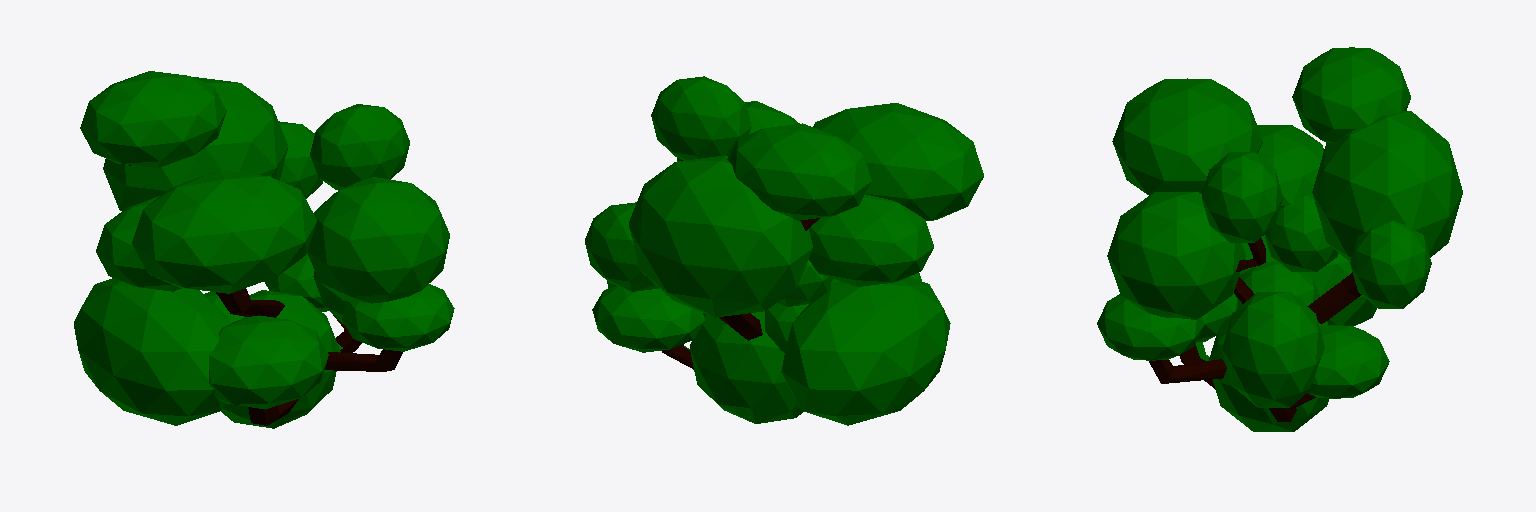
Rendered from round_2.obj.
The picture shows the model from 3 angles: view 1: azimuth 30°, elevation 25°; view 2: azimuth 150°, elevation 25°; view 3: azimuth 270°, elevation 25°; orthographic projection.
Visible parts, largest first — view 1: Icosphere.015; view 2: Icosphere.015; view 3: Icosphere.015.
Boxes of the visible parts, x1,y1,x2,y2 form: Icosphere.015: [74, 71, 454, 428]; Icosphere.015: [585, 76, 983, 425]; Icosphere.015: [1097, 47, 1462, 431].
Bounding box in the file's own units: 0.3048 × 0.305 × 0.3019.